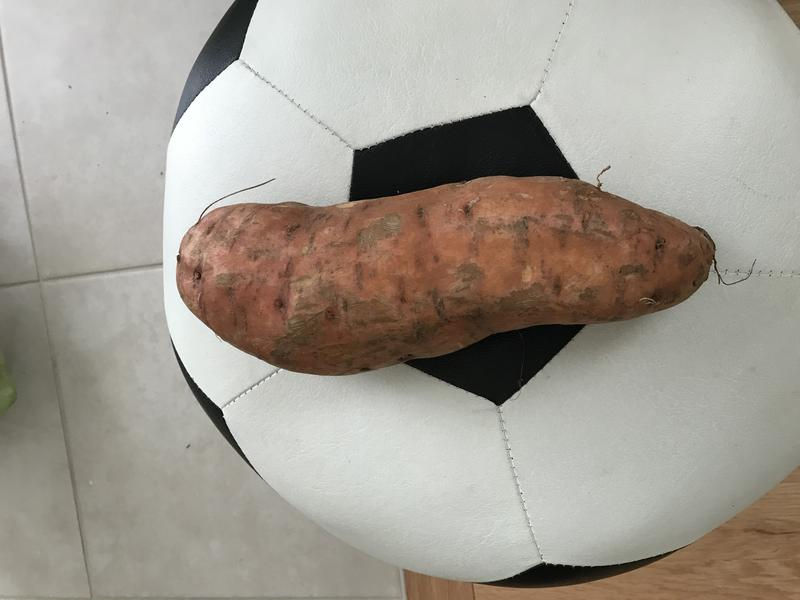sweet_potato: (167, 158, 739, 385)
